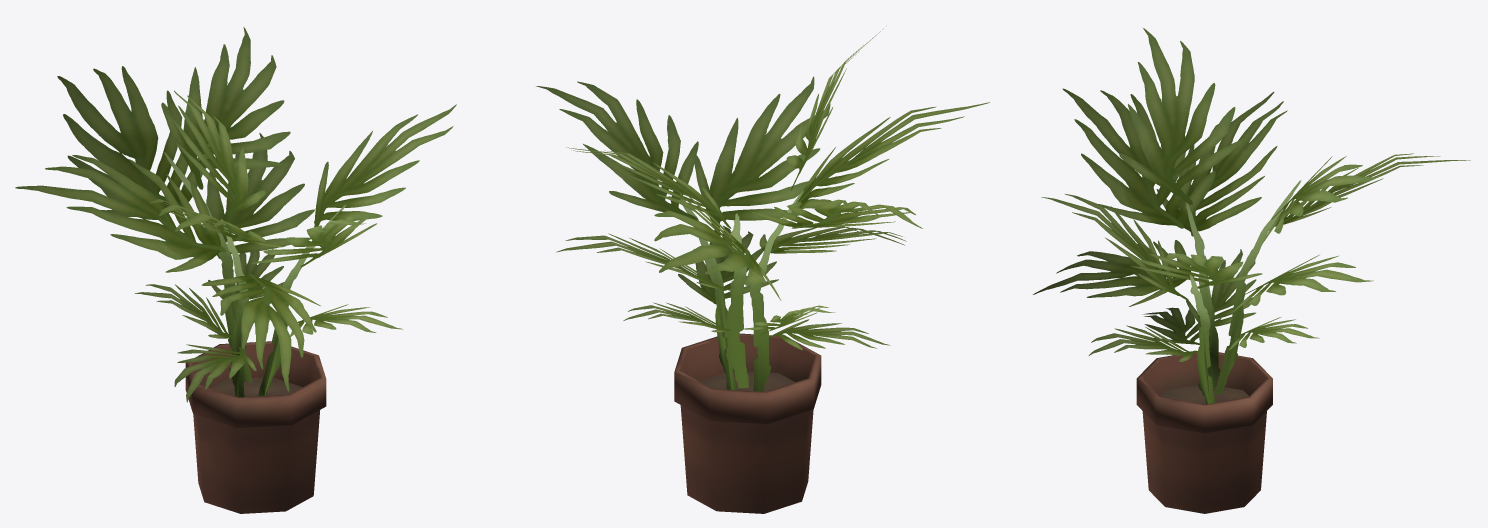
Rendered from House_Plant_1_1.fbx.
3 views of the same model, side by side, from view 1: azimuth 30°, elevation 25°; view 2: azimuth 150°, elevation 25°; view 3: azimuth 270°, elevation 25° (orthographic). The views are drawn at different scales.
Parts seen in each view (by area): view 1: Plane.001, Circle; view 2: Plane.001, Circle; view 3: Plane.001, Circle.
Part boxes in pixels (x1=…): Plane.001: x1=15, y1=27, x2=456, y2=402; Circle: x1=185, y1=341, x2=326, y2=513; Plane.001: x1=536, y1=26, x2=989, y2=391; Circle: x1=674, y1=333, x2=821, y2=513; Plane.001: x1=1033, y1=28, x2=1470, y2=404; Circle: x1=1136, y1=351, x2=1272, y2=513.
Bounding box in the file's own units: 621 × 622 × 597.
